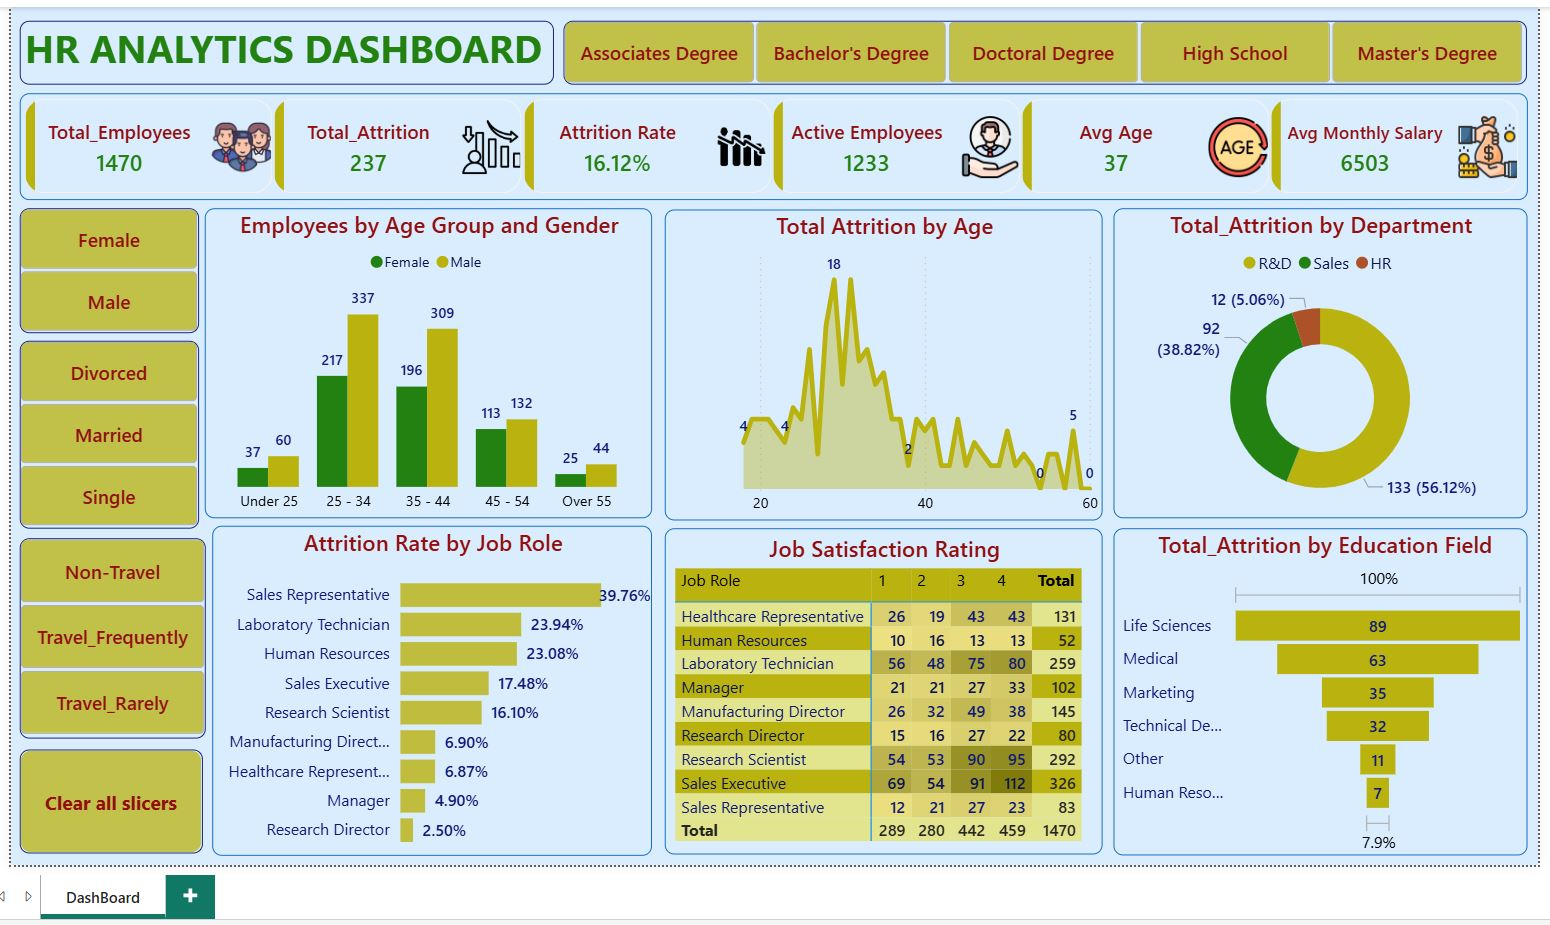

The page's visual inventory and layout, read from the dashboard file:
{"tool":"powerbi","page":{"name":"DashBoard","canvas":[1280,720],"ordinal":0},"visuals":[{"type":"cardVisual","fields":{"Data":["HR data.Total_Employees","HR data.Total_Attrition","HR data.Attrition Rate","HR data.Active Employees","Avg(HR data.Age)","Avg(HR data.Monthly Income)"]},"box":[6.9,72.4,1264.7,89.6],"z":0},{"type":"clusteredColumnChart","title":"Employees by Age Group and Gender","fields":{"Category":["HR data.Age Group"],"Y":["HR data.Total_Employees"],"Series":["HR data.Gender"]},"box":[163,169,375.1,260.1],"z":1000},{"type":"areaChart","title":"Total Attrition by Age","fields":{"Category":["HR data.Age"],"Y":["HR data.Total_Attrition"]},"box":[547.9,170,367.6,260.8],"z":2000},{"type":"donutChart","fields":{"Category":["HR data.Department"],"Y":["HR data.Total_Attrition"]},"box":[924.7,168.9,346.9,259.6],"z":3000},{"type":"clusteredBarChart","fields":{"Y":["HR data.Attrition Rate"],"Category":["HR data.Job Role"]},"box":[169,435.1,369.1,276.9],"z":4000},{"type":"pivotTable","title":"Job Satisfaction Rating","fields":{"Columns":["HR data.Job Satisfaction"],"Rows":["HR data.Job Role"],"Values":["HR data.Total_Employees"]},"box":[547.9,437.7,367.6,273.4],"z":5000},{"type":"funnel","fields":{"Category":["HR data.Education Field"],"Y":["HR data.Total_Attrition"]},"box":[924.7,437.7,346.9,274.5],"z":6000},{"type":"advancedSlicerVisual","fields":{"Values":["HR data.Gender"]},"box":[6.9,168.9,150.5,105],"z":6001},{"type":"advancedSlicerVisual","fields":{"Values":["HR data.Marital Status"]},"box":[6.9,280.3,150.5,157.4],"z":6002},{"type":"advancedSlicerVisual","fields":{"Values":["HR data.Business Travel"]},"box":[7.2,445.8,156,167.8],"z":6003},{"type":"advancedSlicerVisual","fields":{"Values":["HR data.Education"]},"box":[463.8,12,807.8,53.9],"z":6004},{"type":"actionButton","box":[7.2,623.2,153.4,87.5],"z":6005},{"type":"textbox","box":[7.2,12,448.2,53.9],"z":6006}]}

Visuals, with their boxes in screenshot pixels (x1, y1, x2, y2):
cardVisual - HR data.Total_Employees x HR data.Total_Attrition: (16,91,1527,198)
"Employees by Age Group and Gender" clusteredColumnChart: (203,206,651,516)
"Total Attrition by Age" areaChart: (662,207,1101,519)
donutChart - HR data.Department x HR data.Total_Attrition: (1112,206,1527,516)
clusteredBarChart - HR data.Attrition Rate x HR data.Job Role: (210,524,651,854)
"Job Satisfaction Rating" pivotTable: (662,527,1101,853)
funnel - HR data.Education Field x HR data.Total_Attrition: (1112,527,1527,855)
advancedSlicerVisual - HR data.Gender: (16,206,196,331)
advancedSlicerVisual - HR data.Marital Status: (16,339,196,527)
advancedSlicerVisual - HR data.Business Travel: (17,536,203,737)
advancedSlicerVisual - HR data.Education: (562,18,1527,83)
actionButton: (17,748,200,853)
textbox: (17,18,552,83)
